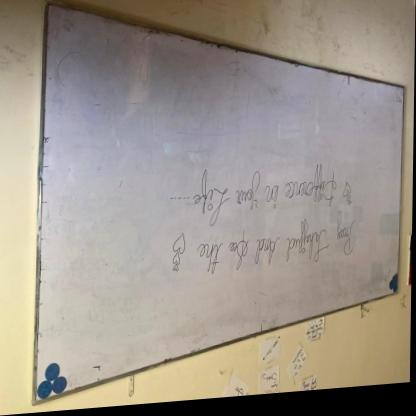Handwritten text: (193, 155, 340, 232), (198, 223, 362, 285)
Whiteboard: (29, 4, 410, 416)
